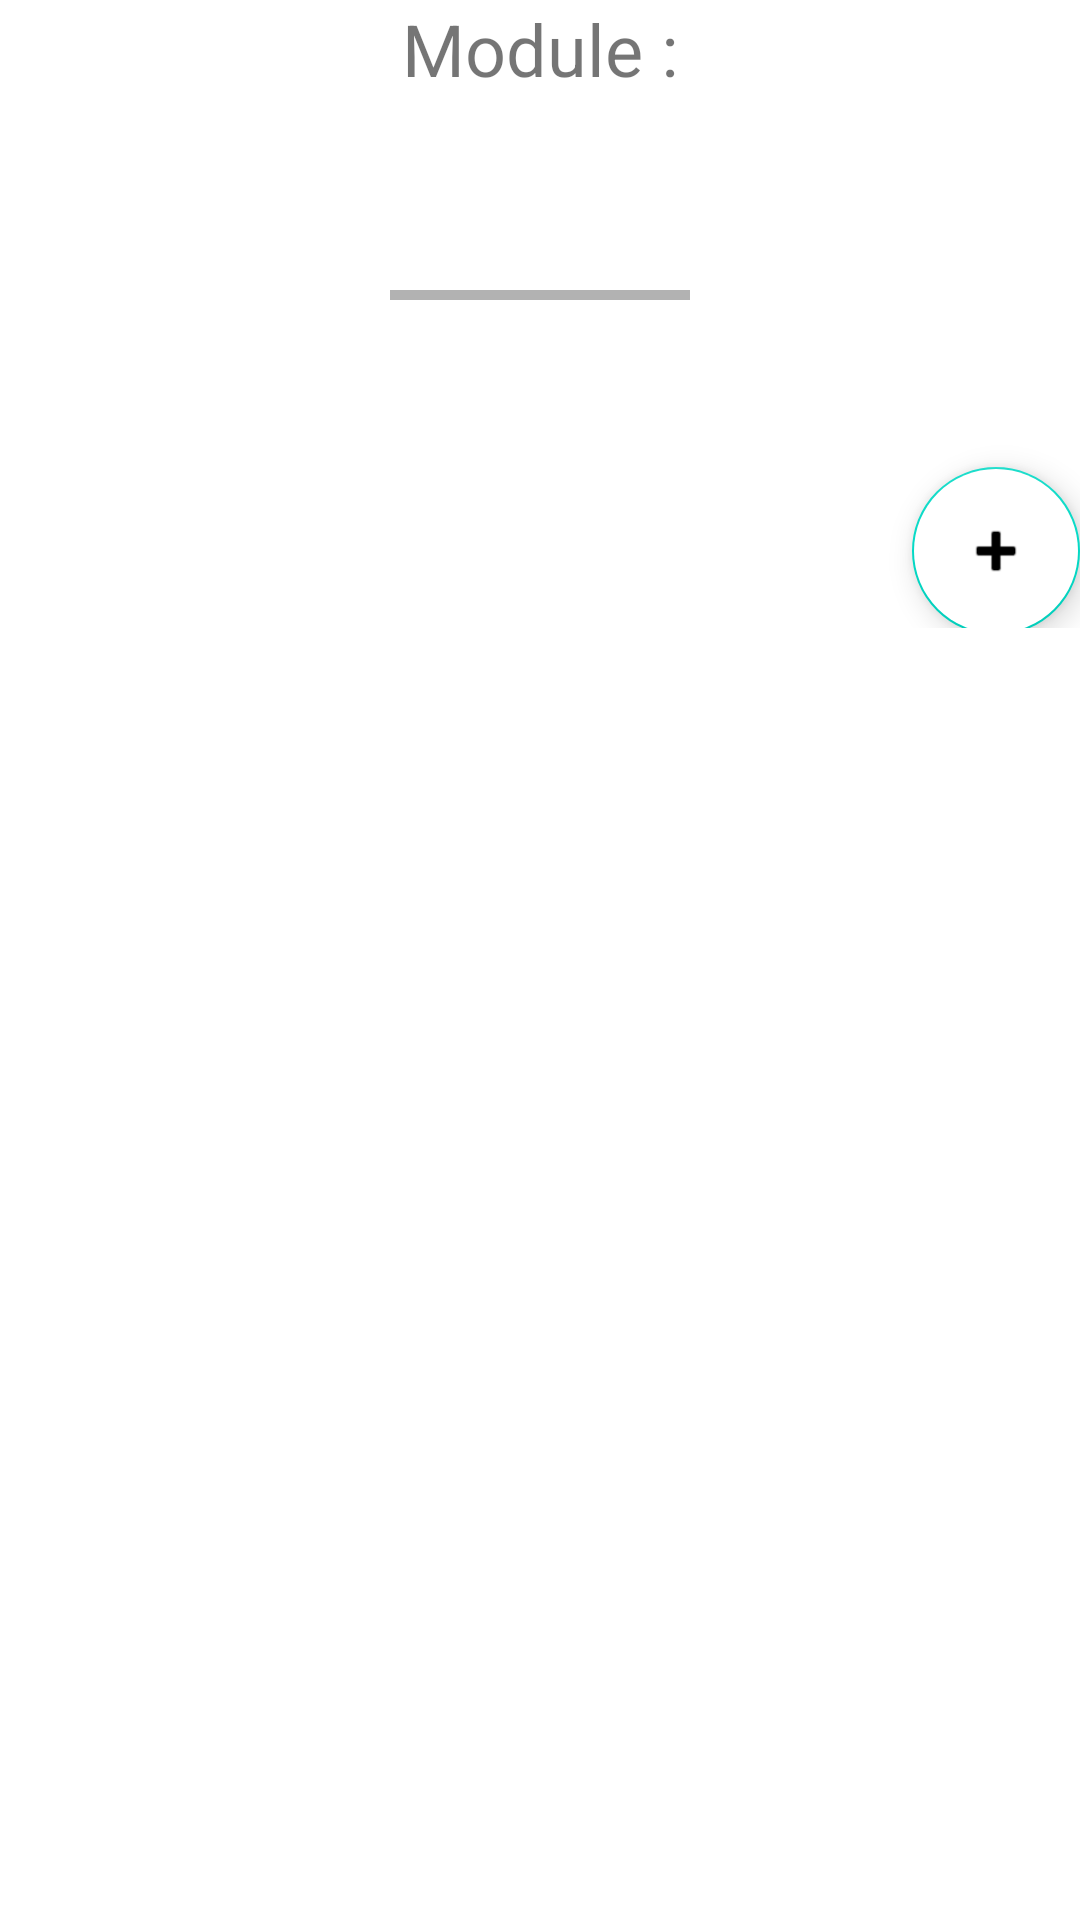

Where icons sit on this 1080 × 1920 app screen, as [left=x1, top=y1, right=x2, bottom=y2]:
add: [left=912, top=467, right=1080, bottom=628]
